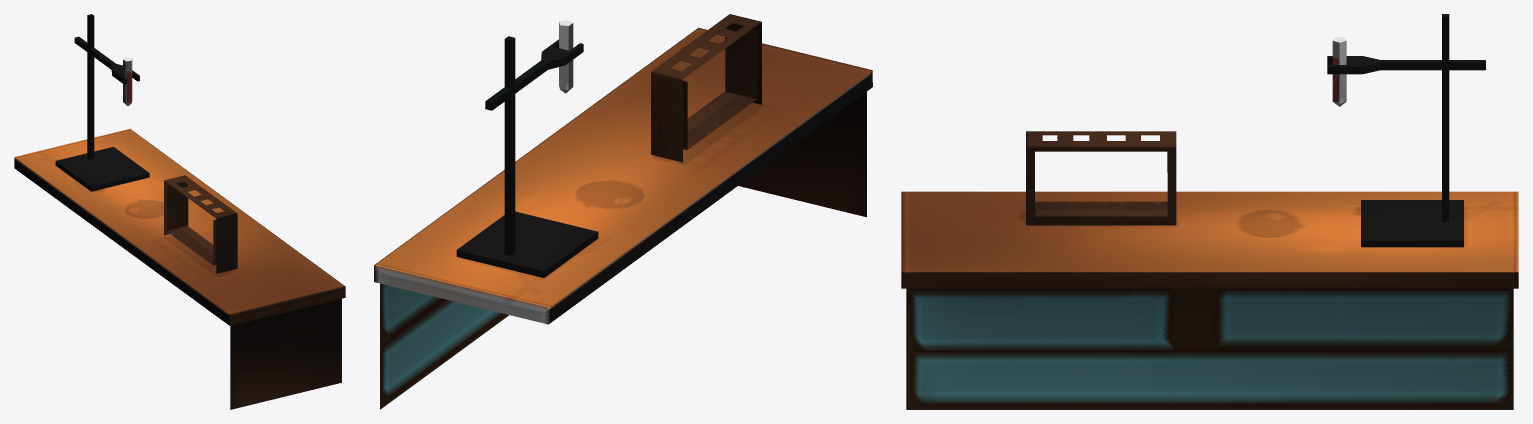
The model's file is Tx_Props_Table_2_ScienceDept.fbx.
3 renders of one model, left to right at view 1: azimuth 30°, elevation 25°; view 2: azimuth 150°, elevation 25°; view 3: azimuth 270°, elevation 25°, orthographic. The views are drawn at different scales.
Visible parts, largest first — view 1: Tx_Props_Table_2_ScienceDept; view 2: Tx_Props_Table_2_ScienceDept; view 3: Tx_Props_Table_2_ScienceDept.
Boxes of the visible parts, x1,y1,x2,y2 form: Tx_Props_Table_2_ScienceDept: (14, 14, 345, 409); Tx_Props_Table_2_ScienceDept: (374, 14, 872, 409); Tx_Props_Table_2_ScienceDept: (901, 14, 1518, 409).
Bounding box in the file's own units: 4.71 × 9.52 × 15.19.
